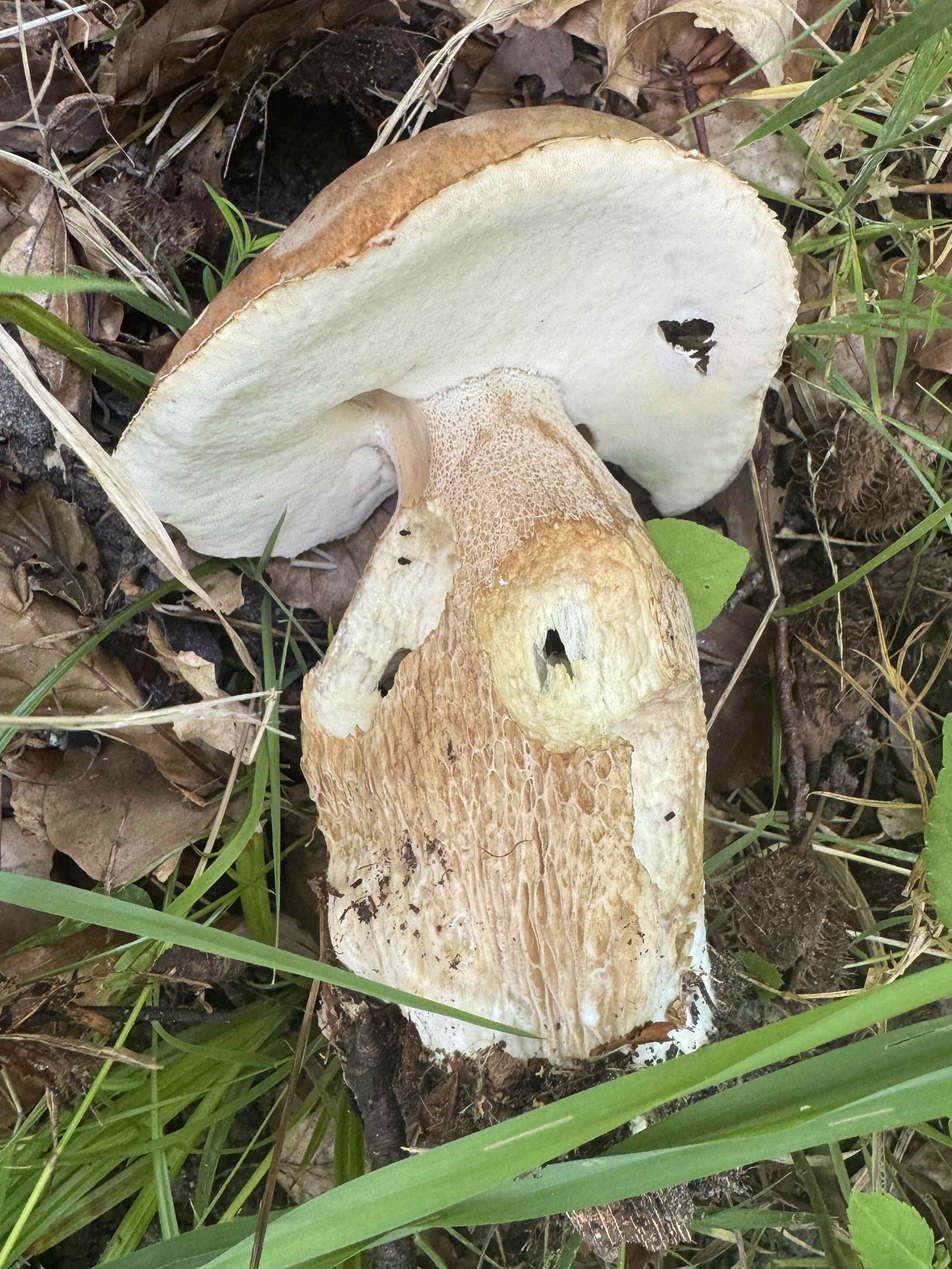cap: (145, 106, 661, 405)
stem: (302, 375, 706, 1064)
underside: (115, 137, 797, 555)
